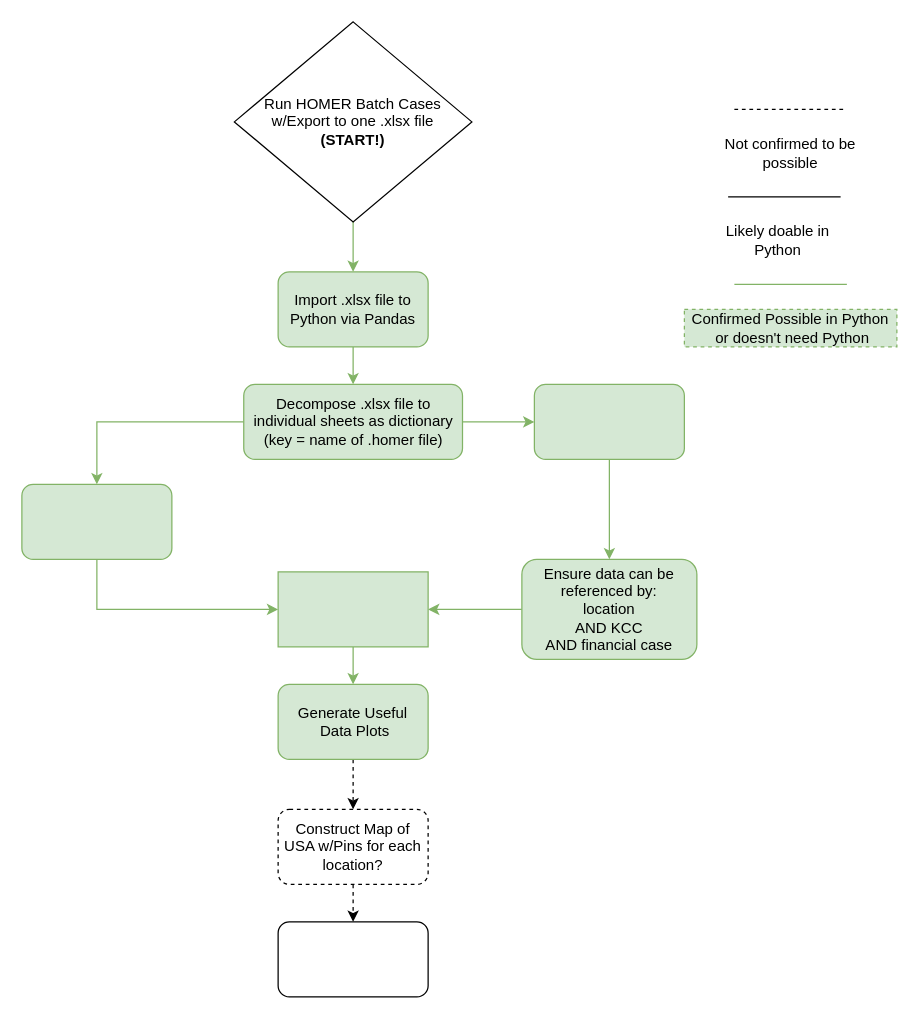
The diagram is 919 pixels wide and 1019 high, and some of its shapes have lost their labels. Here are the shapes that lost their labels. From the top down, the centre of each, then its label:
(608,421): Determine Location/Cost Pair in each sheet
(96,521): Extract optimal case in each sheet
(352,609): Generate new sheet containing all optimized solutions
(352,959): (END?)
